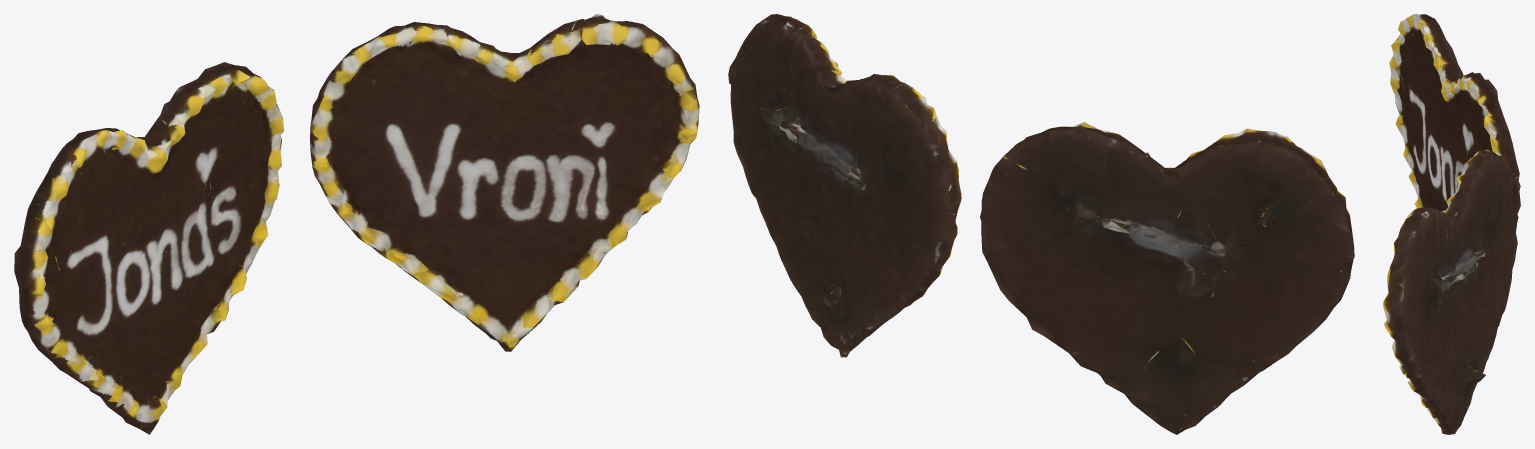
The model's file is 18A9EDA8-FF6E-AA46-921F-03F7AC8C1763_512.glb.
The picture shows the model from 3 angles, left to right: view 1: azimuth 30°, elevation 25°; view 2: azimuth 150°, elevation 25°; view 3: azimuth 270°, elevation 25°; orthographic projection. The views are drawn at different scales.
Visible parts, largest first — view 1: _Filzherzenpaar_1k; view 2: _Filzherzenpaar_1k; view 3: _Filzherzenpaar_1k.
Boxes of the visible parts, box(x1,y1,x2,y2) form: _Filzherzenpaar_1k: box(14, 14, 699, 434); _Filzherzenpaar_1k: box(728, 14, 1354, 434); _Filzherzenpaar_1k: box(1383, 14, 1520, 434).
Size of the model in its own units: 0.1636 by 0.0775 by 0.0377.
Materials: 1 (1 with a texture image).
